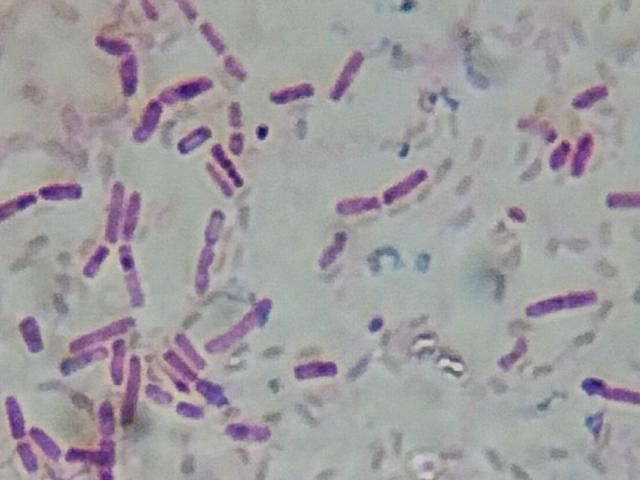E. coli: (207, 293, 278, 361), (95, 31, 141, 94), (523, 283, 602, 319), (384, 163, 441, 205), (325, 48, 366, 105), (582, 370, 640, 408), (167, 331, 206, 384), (117, 242, 145, 308), (493, 334, 534, 378), (64, 313, 132, 339), (317, 225, 352, 273), (289, 353, 343, 384), (162, 72, 212, 103), (100, 175, 124, 235), (17, 312, 50, 355), (44, 177, 89, 208), (267, 84, 320, 110), (0, 189, 37, 226), (122, 353, 140, 427), (132, 97, 158, 148), (573, 82, 610, 117), (61, 349, 105, 377), (228, 421, 277, 445), (197, 207, 227, 246), (334, 189, 382, 213), (230, 101, 254, 147), (129, 188, 147, 249), (602, 186, 639, 215), (30, 421, 58, 459), (541, 138, 572, 172), (574, 128, 593, 183), (208, 164, 234, 202), (80, 242, 109, 275), (108, 336, 129, 381), (195, 241, 213, 293), (522, 114, 559, 136), (199, 21, 224, 53), (6, 394, 24, 438), (217, 142, 238, 178), (13, 440, 36, 472), (177, 126, 206, 151), (69, 445, 107, 464), (145, 3, 172, 29), (196, 379, 224, 404), (174, 404, 202, 427), (146, 387, 172, 411), (228, 53, 248, 82), (99, 441, 114, 479), (100, 403, 114, 440)
